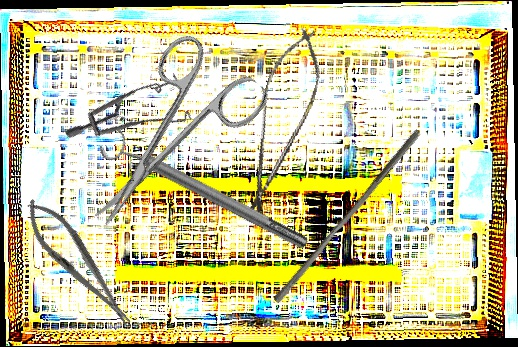Fixation Ring: (94, 122, 315, 262)
Iris Scissors: (54, 24, 274, 254)
Micro Scissor: (228, 20, 334, 230)
Needle Holder: (14, 190, 142, 336)
Pusher: (272, 123, 422, 309)
Speculum: (63, 47, 207, 191)
